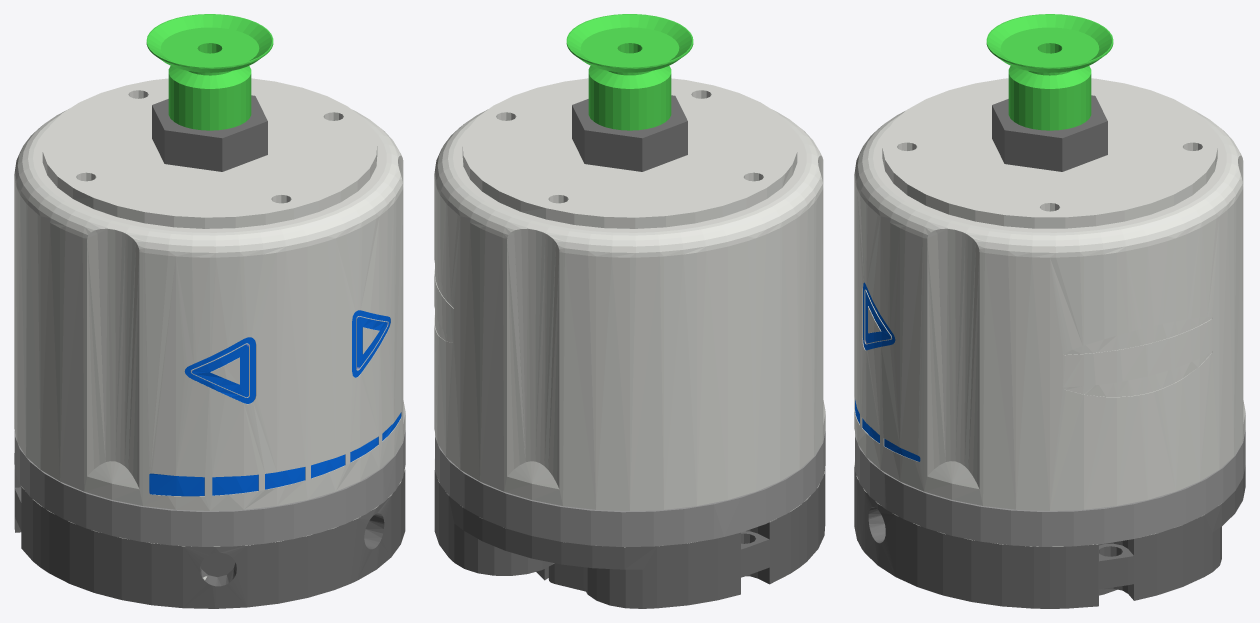
File: schmalz.dae
3 views of the same model, side by side, from view 1: azimuth 30°, elevation 25°; view 2: azimuth 150°, elevation 25°; view 3: azimuth 270°, elevation 25° (orthographic).
Parts seen in each view (by area): view 1: base_link; view 2: base_link; view 3: base_link.
Part boxes in pixels (x1,y1,x2,y2): base_link: (14, 14, 405, 608); base_link: (434, 14, 825, 608); base_link: (854, 14, 1245, 608).
Bounding box in the file's own units: 0.063 × 0.063 × 0.0922.
1 material, 1 textured.
